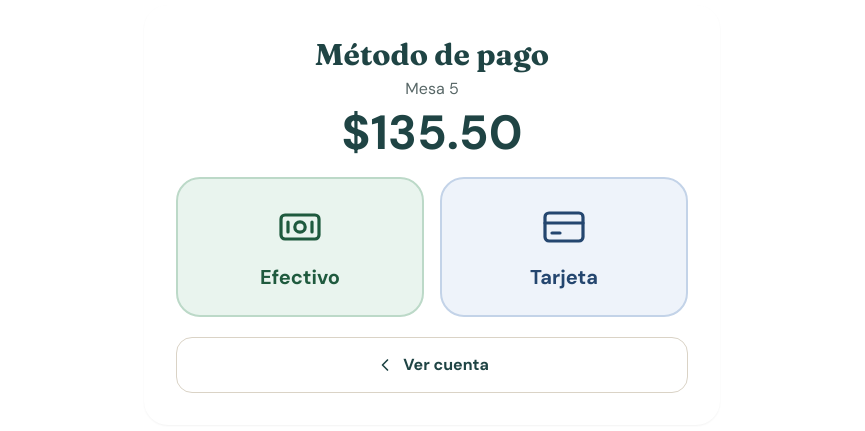
Test: PasosPago › mientras cobra bloquea el boton
Click the button "Tarjeta" at [564, 247], box [440,177,688,317]
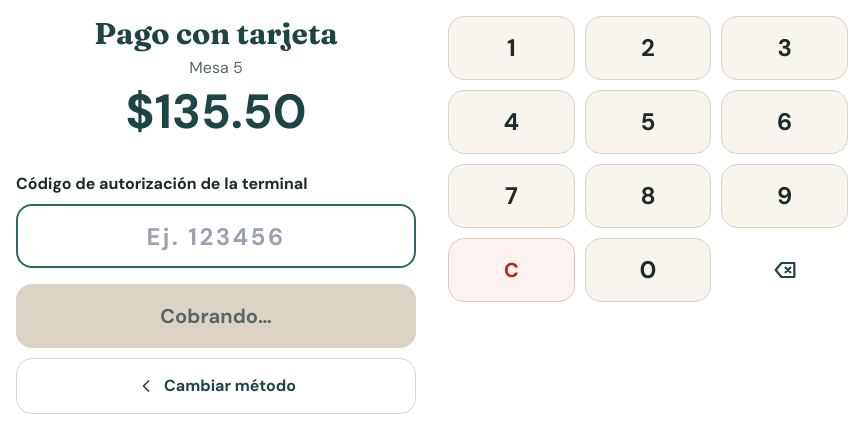
Result: the button "Cobrando…" is disabled at [16,284,416,348]
